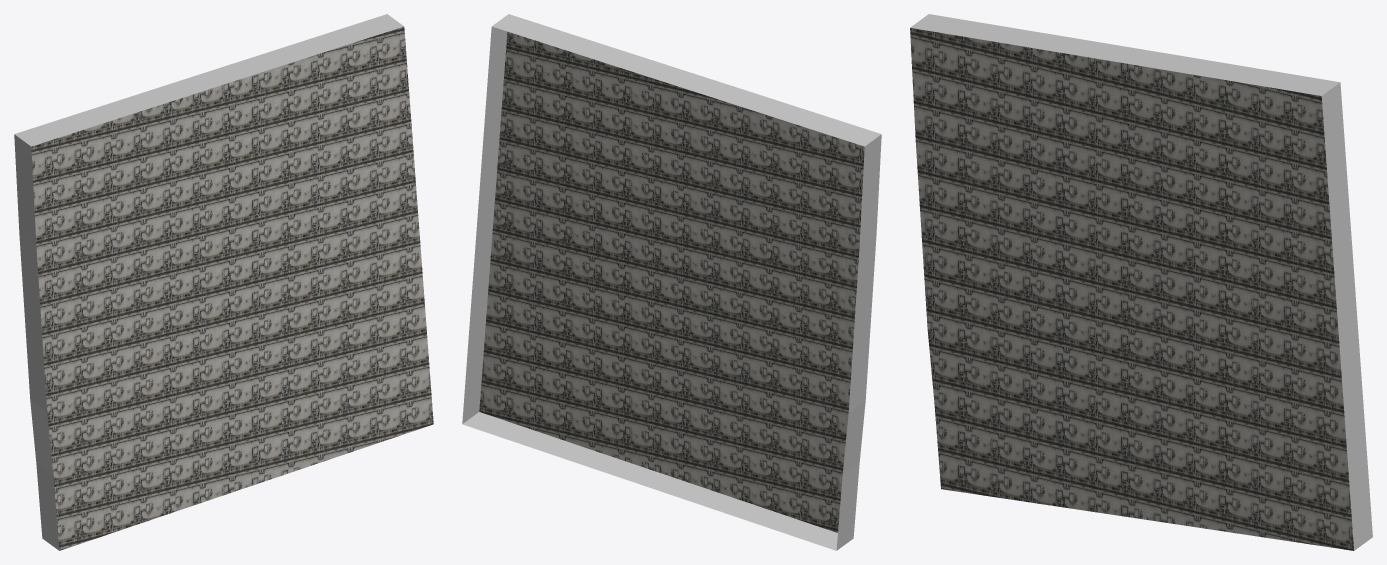
Rendered from geospecific_407.obj.
3 renders of one model, left to right at view 1: azimuth 30°, elevation 25°; view 2: azimuth 150°, elevation 25°; view 3: azimuth 330°, elevation 25°, orthographic. The views are drawn at different scales.
Visible parts, largest first — view 1: Building; view 2: Building; view 3: Building.
Boxes of the visible parts, x1,y1,x2,y2 form: Building: (14, 14, 433, 550); Building: (462, 14, 881, 550); Building: (910, 14, 1372, 550).
Size of the model in its own units: 40.85 by 42.71 by 3.
